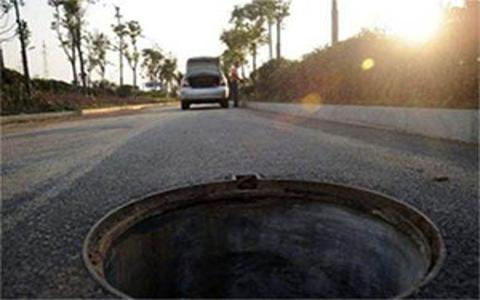open manhole: (56, 167, 452, 295)
